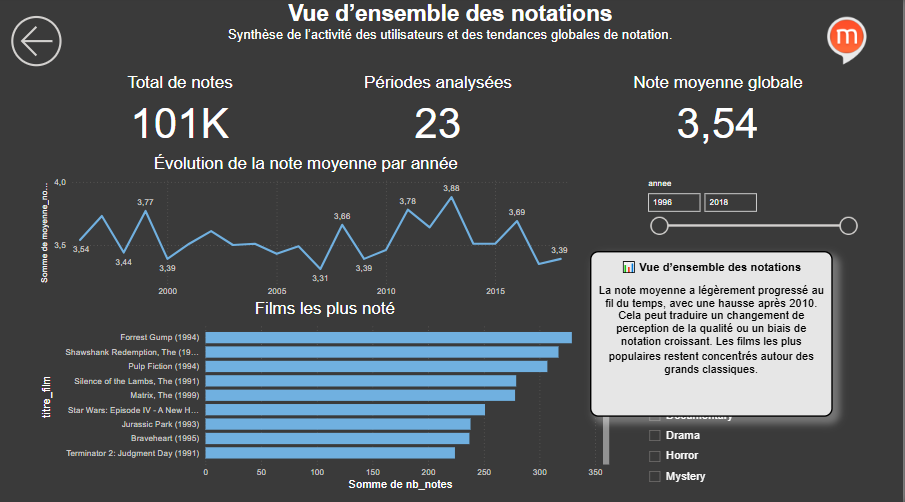

The dashboard page shown, as its layout file describes it:
{"tool":"powerbi","page":{"name":"Vue d’ensemble","canvas":[1280,720],"ordinal":0},"visuals":[{"type":"card","title":"Total de notes","fields":{"Values":["Sum(public vue_notes_par_annee.nb_votes)"]},"box":[126.5,105.7,260.5,107.2],"z":0},{"type":"card","title":"Périodes analysées","fields":{"Values":["Count(public vue_notes_par_annee.annee)"]},"box":[491.2,105.7,260.5,107.2],"z":1000},{"type":"card","title":"Note moyenne globale","fields":{"Values":["Avg(public vue_notes_par_annee.moyenne_notes)"]},"box":[888.6,105.7,260.5,107.2],"z":2000},{"type":"lineChart","title":"Évolution de la note moyenne par année","fields":{"Category":["public vue_notes_par_annee.annee"],"Y":["Sum(public vue_notes_par_annee.moyenne_notes)"]},"box":[54.1,220.8,761.7,223.1],"z":3000},{"type":"clusteredBarChart","title":"Films les plus noté","fields":{"Category":["public vue_top_films_notes (2).titre_film"],"Y":["Sum(public vue_top_films_notes (2).nb_notes)"]},"box":[54.1,425.9,815.8,277.2],"z":4000},{"type":"slicer","fields":{"Values":["public vue_notes_par_annee.annee"]},"box":[907.1,252,317.5,107.5],"z":5000},{"type":"slicer","fields":{"Values":["public dim_genres.genre"]},"box":[908.2,378.6,263.7,324.5],"z":6000},{"type":"textbox","box":[146.5,0,987,108.2],"z":7000},{"type":"textbox","title":"Zone_Analyse_P1","box":[838.2,359.5,344,235],"z":8000},{"type":"actionButton","title":"Button Retour","box":[8.4,16.8,89,90.7],"z":9000},{"type":"image","box":[1162.1,20.2,77.8,85],"z":11000}]}

Visuals, with their boxes in screenshot pixels (x1, y1, x2, y2), scaled from the page's 1280x720 canvas onto the 905x502 screenshot:
"Total de notes" card: x1=89, y1=74, x2=274, y2=148
"Périodes analysées" card: x1=347, y1=74, x2=531, y2=148
"Note moyenne globale" card: x1=628, y1=74, x2=812, y2=148
"Évolution de la note moyenne par année" lineChart: x1=38, y1=154, x2=577, y2=309
"Films les plus noté" clusteredBarChart: x1=38, y1=297, x2=615, y2=490
slicer - public vue_notes_par_annee.annee: x1=641, y1=176, x2=866, y2=251
slicer - public dim_genres.genre: x1=642, y1=264, x2=829, y2=490
textbox: x1=104, y1=0, x2=801, y2=75
"Zone_Analyse_P1" textbox: x1=593, y1=251, x2=836, y2=414
"Button Retour" actionButton: x1=6, y1=12, x2=69, y2=75
image: x1=822, y1=14, x2=877, y2=73
